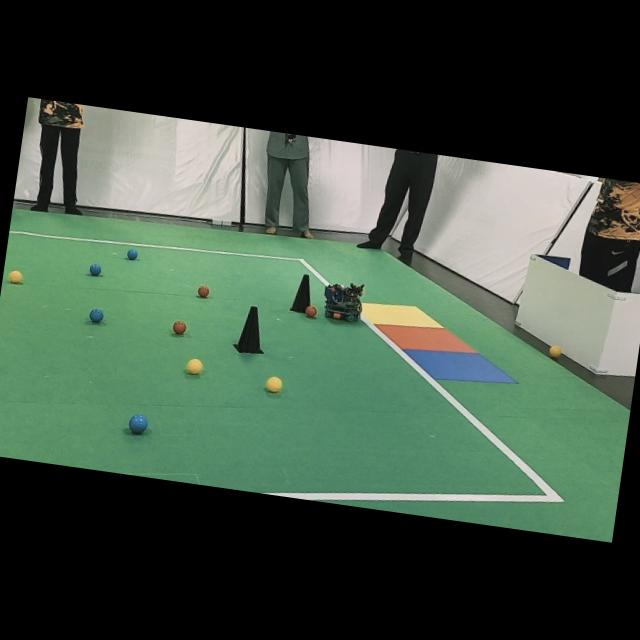ball: (128, 414, 148, 434), (266, 376, 283, 392), (187, 358, 204, 374), (172, 320, 187, 335), (90, 308, 104, 323), (198, 285, 210, 298), (9, 271, 22, 283), (550, 346, 563, 358), (89, 263, 101, 276), (127, 249, 139, 261), (305, 306, 317, 317)
goal: (405, 349, 517, 384), (377, 324, 477, 353), (363, 303, 443, 328)
